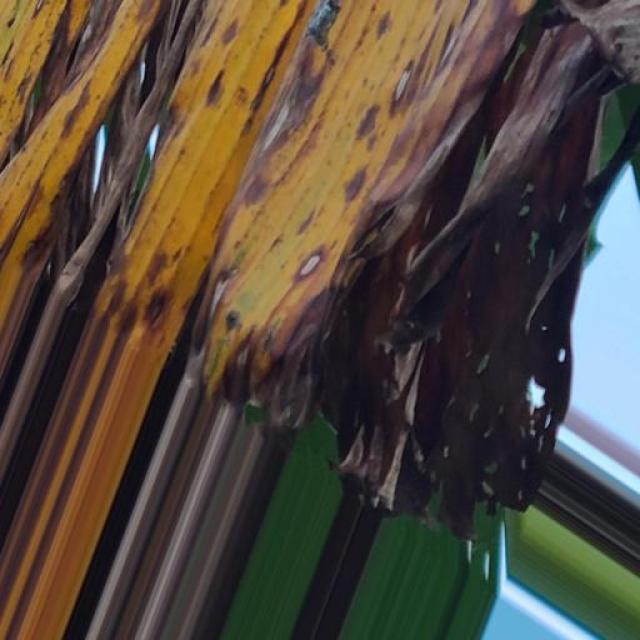Cordana: (0, 0, 584, 522)
